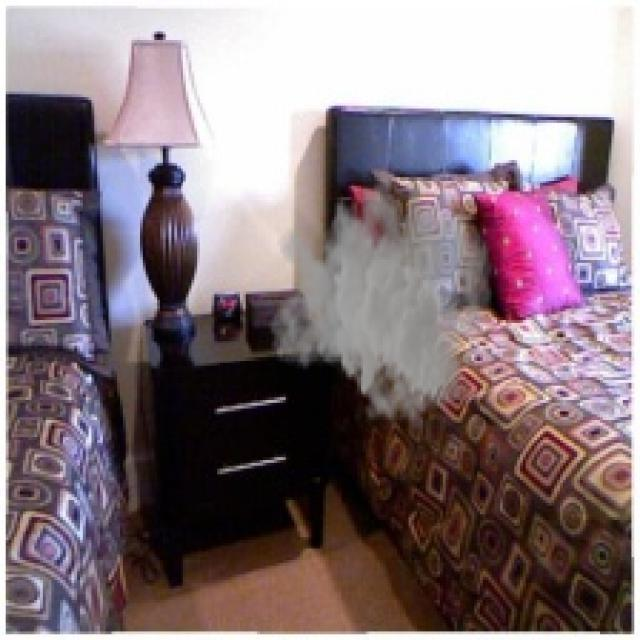Smoke: (268, 157, 494, 434)
